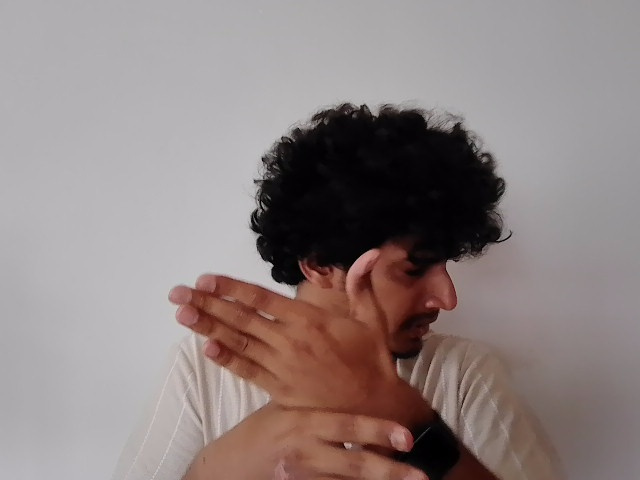busy: (168, 247, 432, 480)
